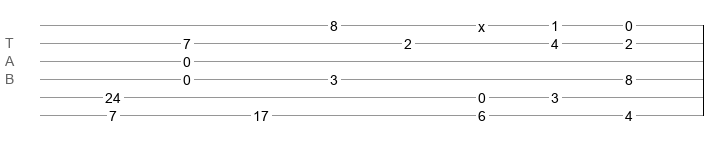0: (183, 54, 191, 64), (183, 72, 191, 82), (478, 90, 486, 100), (625, 18, 633, 28)
1: (551, 18, 559, 28)
17: (253, 108, 269, 118)
2: (404, 36, 412, 46), (625, 36, 633, 46)
24: (105, 90, 121, 100)
3: (330, 72, 338, 82), (551, 90, 559, 100)
4: (551, 36, 559, 46), (625, 108, 633, 118)
6: (478, 108, 486, 118)
7: (109, 108, 117, 118), (183, 36, 191, 46)
8: (330, 18, 338, 28), (625, 72, 633, 82)
x: (478, 19, 485, 27)
